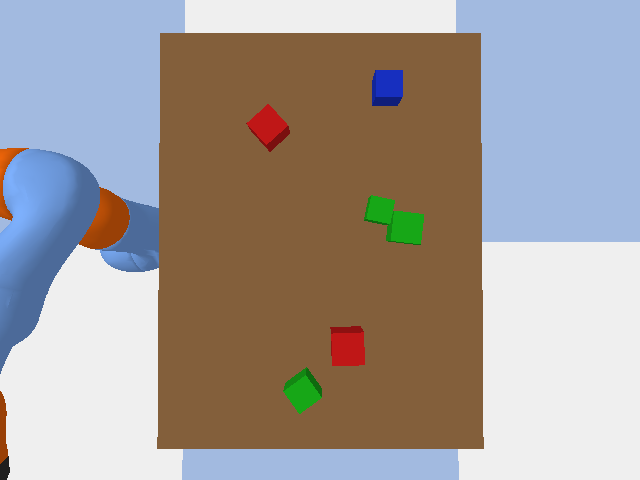blue_obj: (372, 70, 402, 105)
green_obj: (283, 367, 321, 413), (386, 211, 423, 244), (364, 195, 394, 224)
red_obj: (246, 104, 289, 151), (330, 326, 364, 365)
